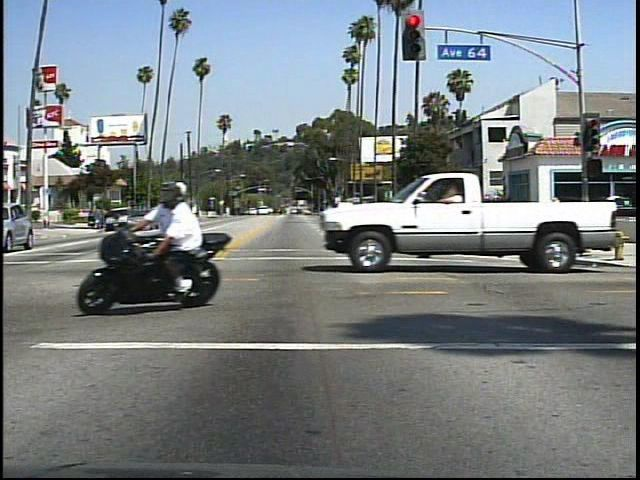person: (144, 177, 220, 306), (542, 193, 570, 246)
